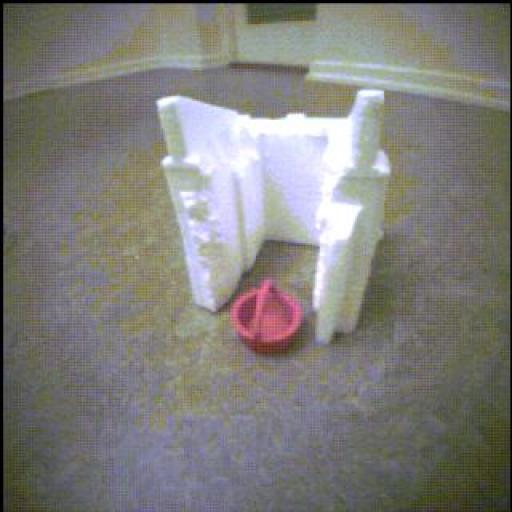Bucket: (232, 281, 304, 355)
